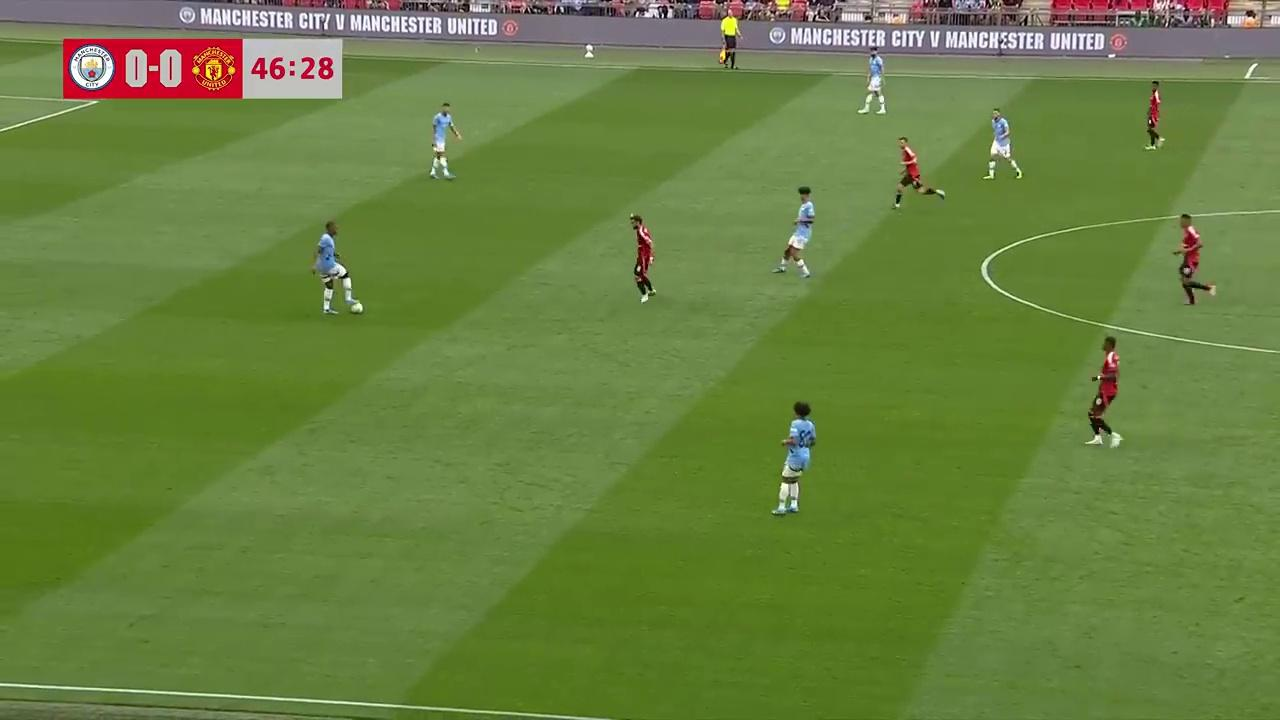ball: (353, 299, 364, 315)
player: (770, 400, 816, 517), (312, 220, 364, 316), (771, 186, 814, 279), (1085, 336, 1121, 447), (891, 136, 942, 209), (1173, 213, 1210, 304), (983, 108, 1023, 180), (427, 101, 462, 180), (629, 214, 656, 302), (858, 47, 886, 115), (1144, 81, 1164, 150)
referee: (718, 6, 741, 71)
